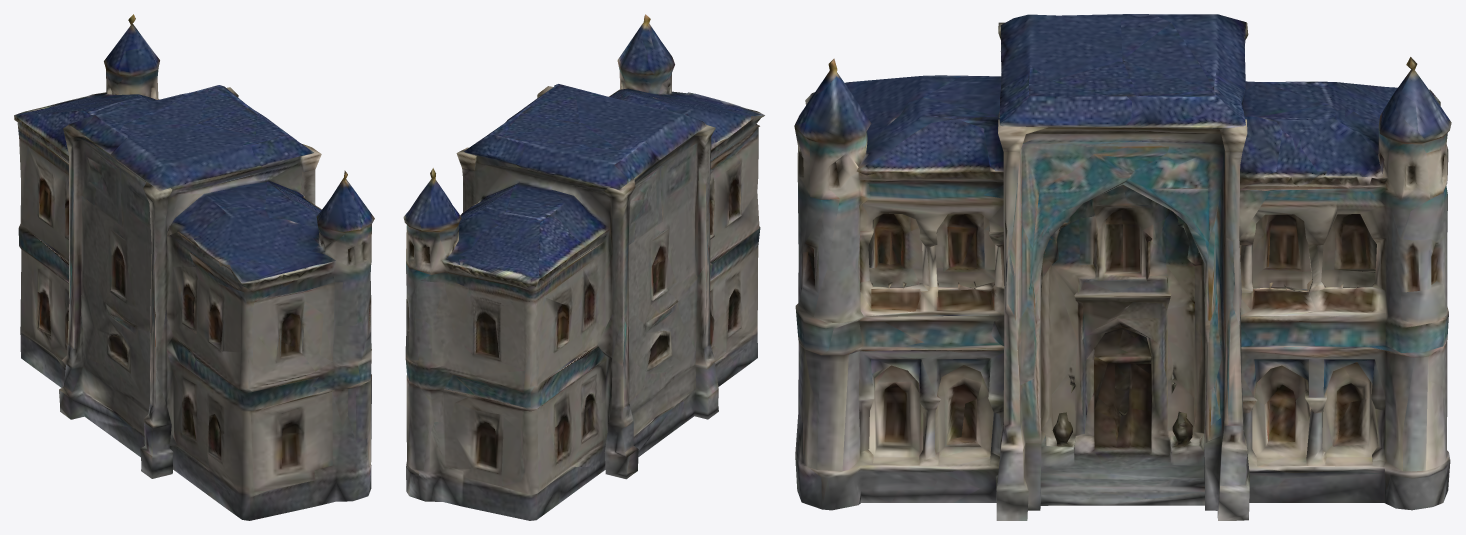
The model's file is house_noble_0.glb.
The picture shows the model from 3 angles, left to right: view 1: azimuth 30°, elevation 25°; view 2: azimuth 150°, elevation 25°; view 3: azimuth 270°, elevation 25°; orthographic projection. The views are drawn at different scales.
Parts seen in each view (by area): view 1: tripo_node_292aeb95-5a95-431a-9e95-e4d1b807b511; view 2: tripo_node_292aeb95-5a95-431a-9e95-e4d1b807b511; view 3: tripo_node_292aeb95-5a95-431a-9e95-e4d1b807b511.
Part boxes in pixels (left/top/right/bottom): tripo_node_292aeb95-5a95-431a-9e95-e4d1b807b511: left=14, top=14, right=374, bottom=520; tripo_node_292aeb95-5a95-431a-9e95-e4d1b807b511: left=403, top=14, right=764, bottom=520; tripo_node_292aeb95-5a95-431a-9e95-e4d1b807b511: left=794, top=14, right=1451, bottom=520.
Size of the model in its own units: 0.4063 by 0.7206 by 0.9789.
Materials: 1 (1 with a texture image).
